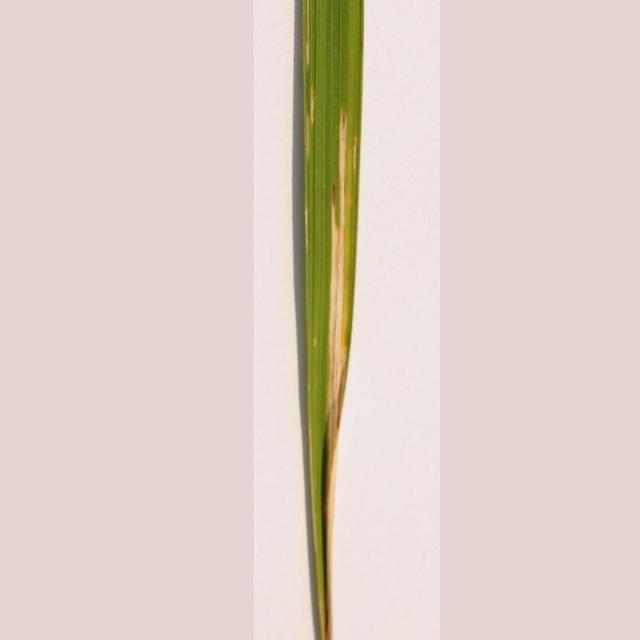leaf blight: (296, 2, 353, 637)
